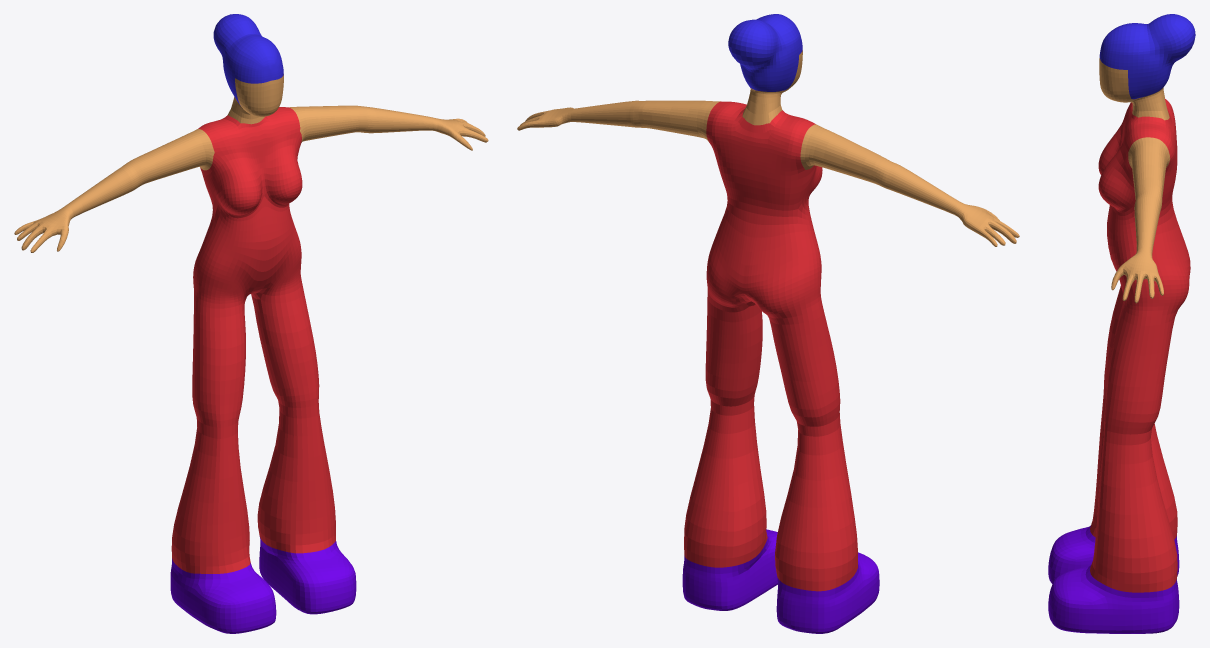
File: personnage1.fbx
3 views of the same model, side by side, from view 1: azimuth 30°, elevation 25°; view 2: azimuth 150°, elevation 25°; view 3: azimuth 270°, elevation 25° (orthographic). The views are drawn at different scales.
Parts seen in each view (by area): view 1: Plane; view 2: Plane; view 3: Plane.
Part boxes in pixels (x1,y1,x2,y2): Plane: (14,14,488,633); Plane: (517,14,1019,633); Plane: (1048,14,1195,633).
Size of the model in its own units: 152 by 177 by 40.47.
